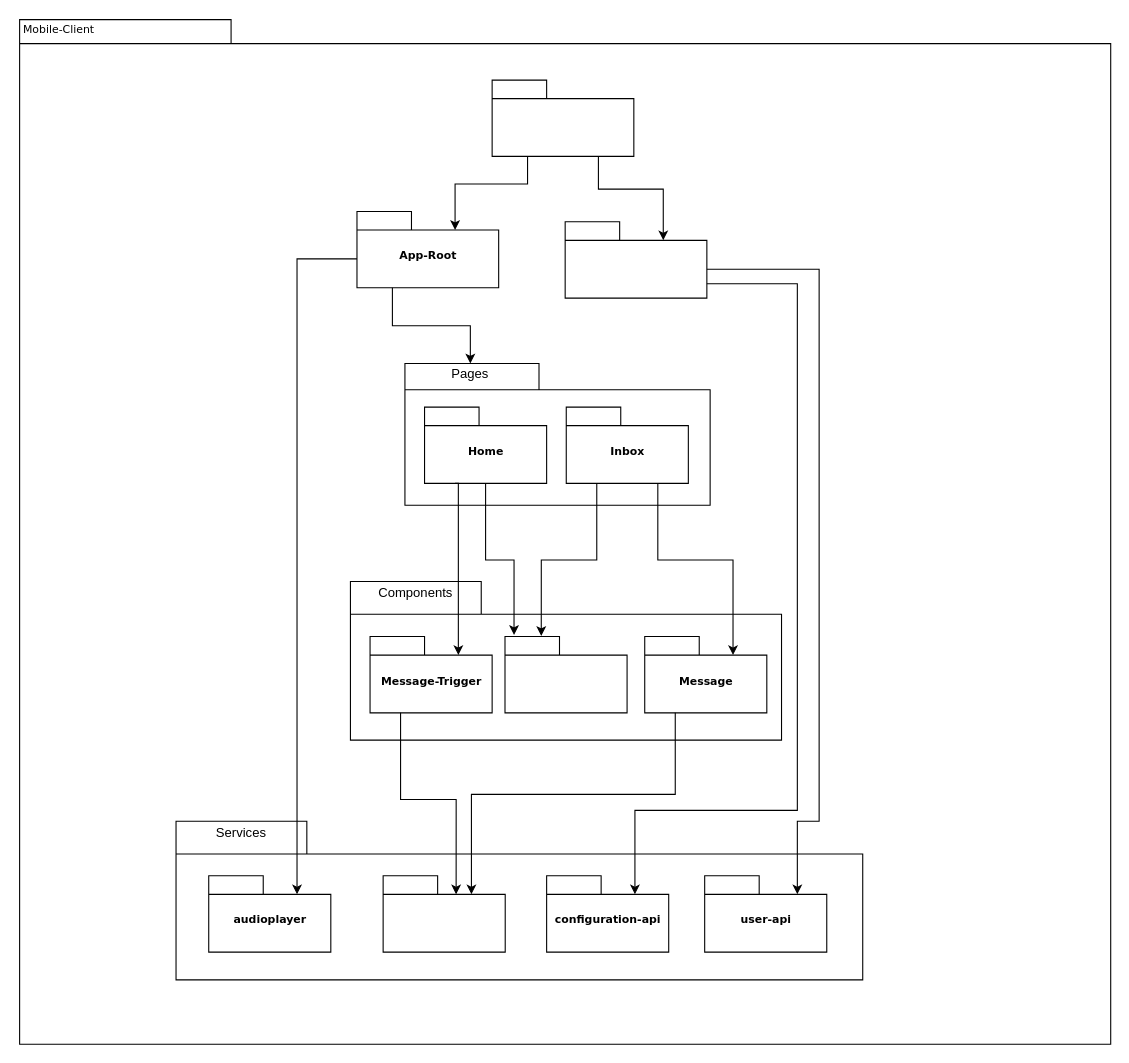
Image size: 1129x1063. Some labels were removed from this diagram. The box of each missing label's shape, as (x1, y1, x2, y2) in pixels:
App: (491, 79, 634, 156)
Login-Root: (564, 221, 707, 298)
notification-api: (382, 875, 505, 952)
Profile: (504, 635, 627, 713)
